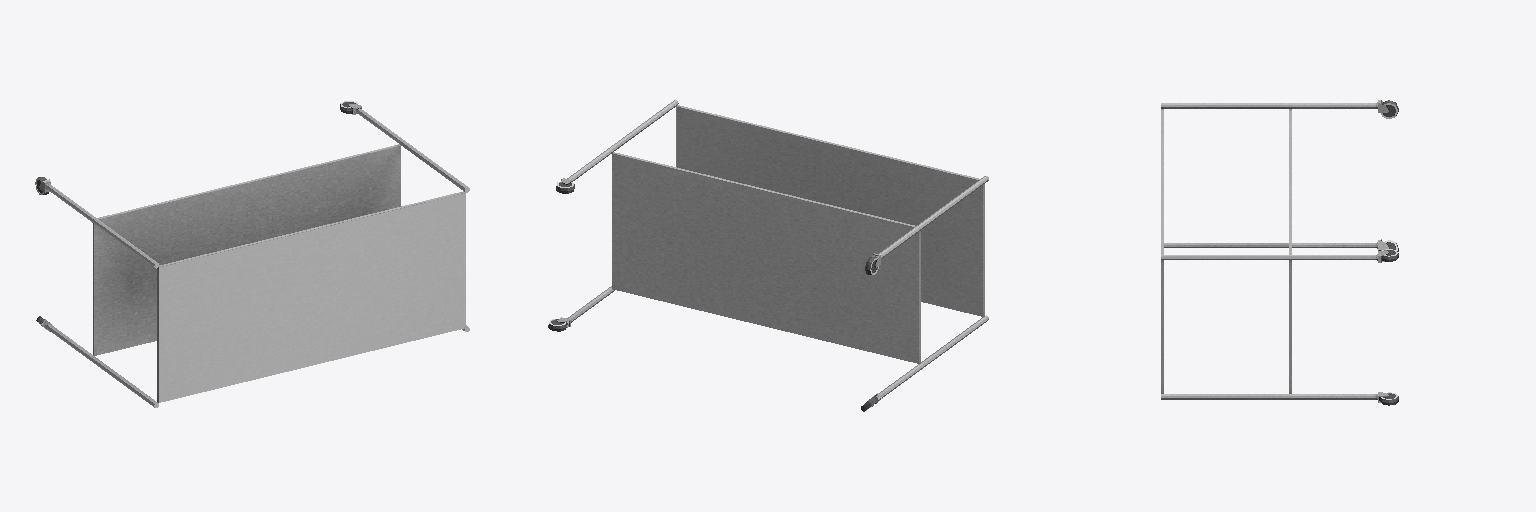
The picture shows the model from 3 angles: view 1: azimuth 30°, elevation 25°; view 2: azimuth 150°, elevation 25°; view 3: azimuth 270°, elevation 25°; orthographic projection.
Visible parts, largest first — view 1: SurgicalTrolley; view 2: SurgicalTrolley; view 3: SurgicalTrolley.
Boxes of the visible parts, x1,y1,x2,y2 form: SurgicalTrolley: [35, 101, 469, 407]; SurgicalTrolley: [548, 100, 988, 411]; SurgicalTrolley: [1161, 100, 1398, 405].
Size of the model in its own units: 1.11 by 0.5045 by 0.7007.
Materials: 1 (1 with a texture image).